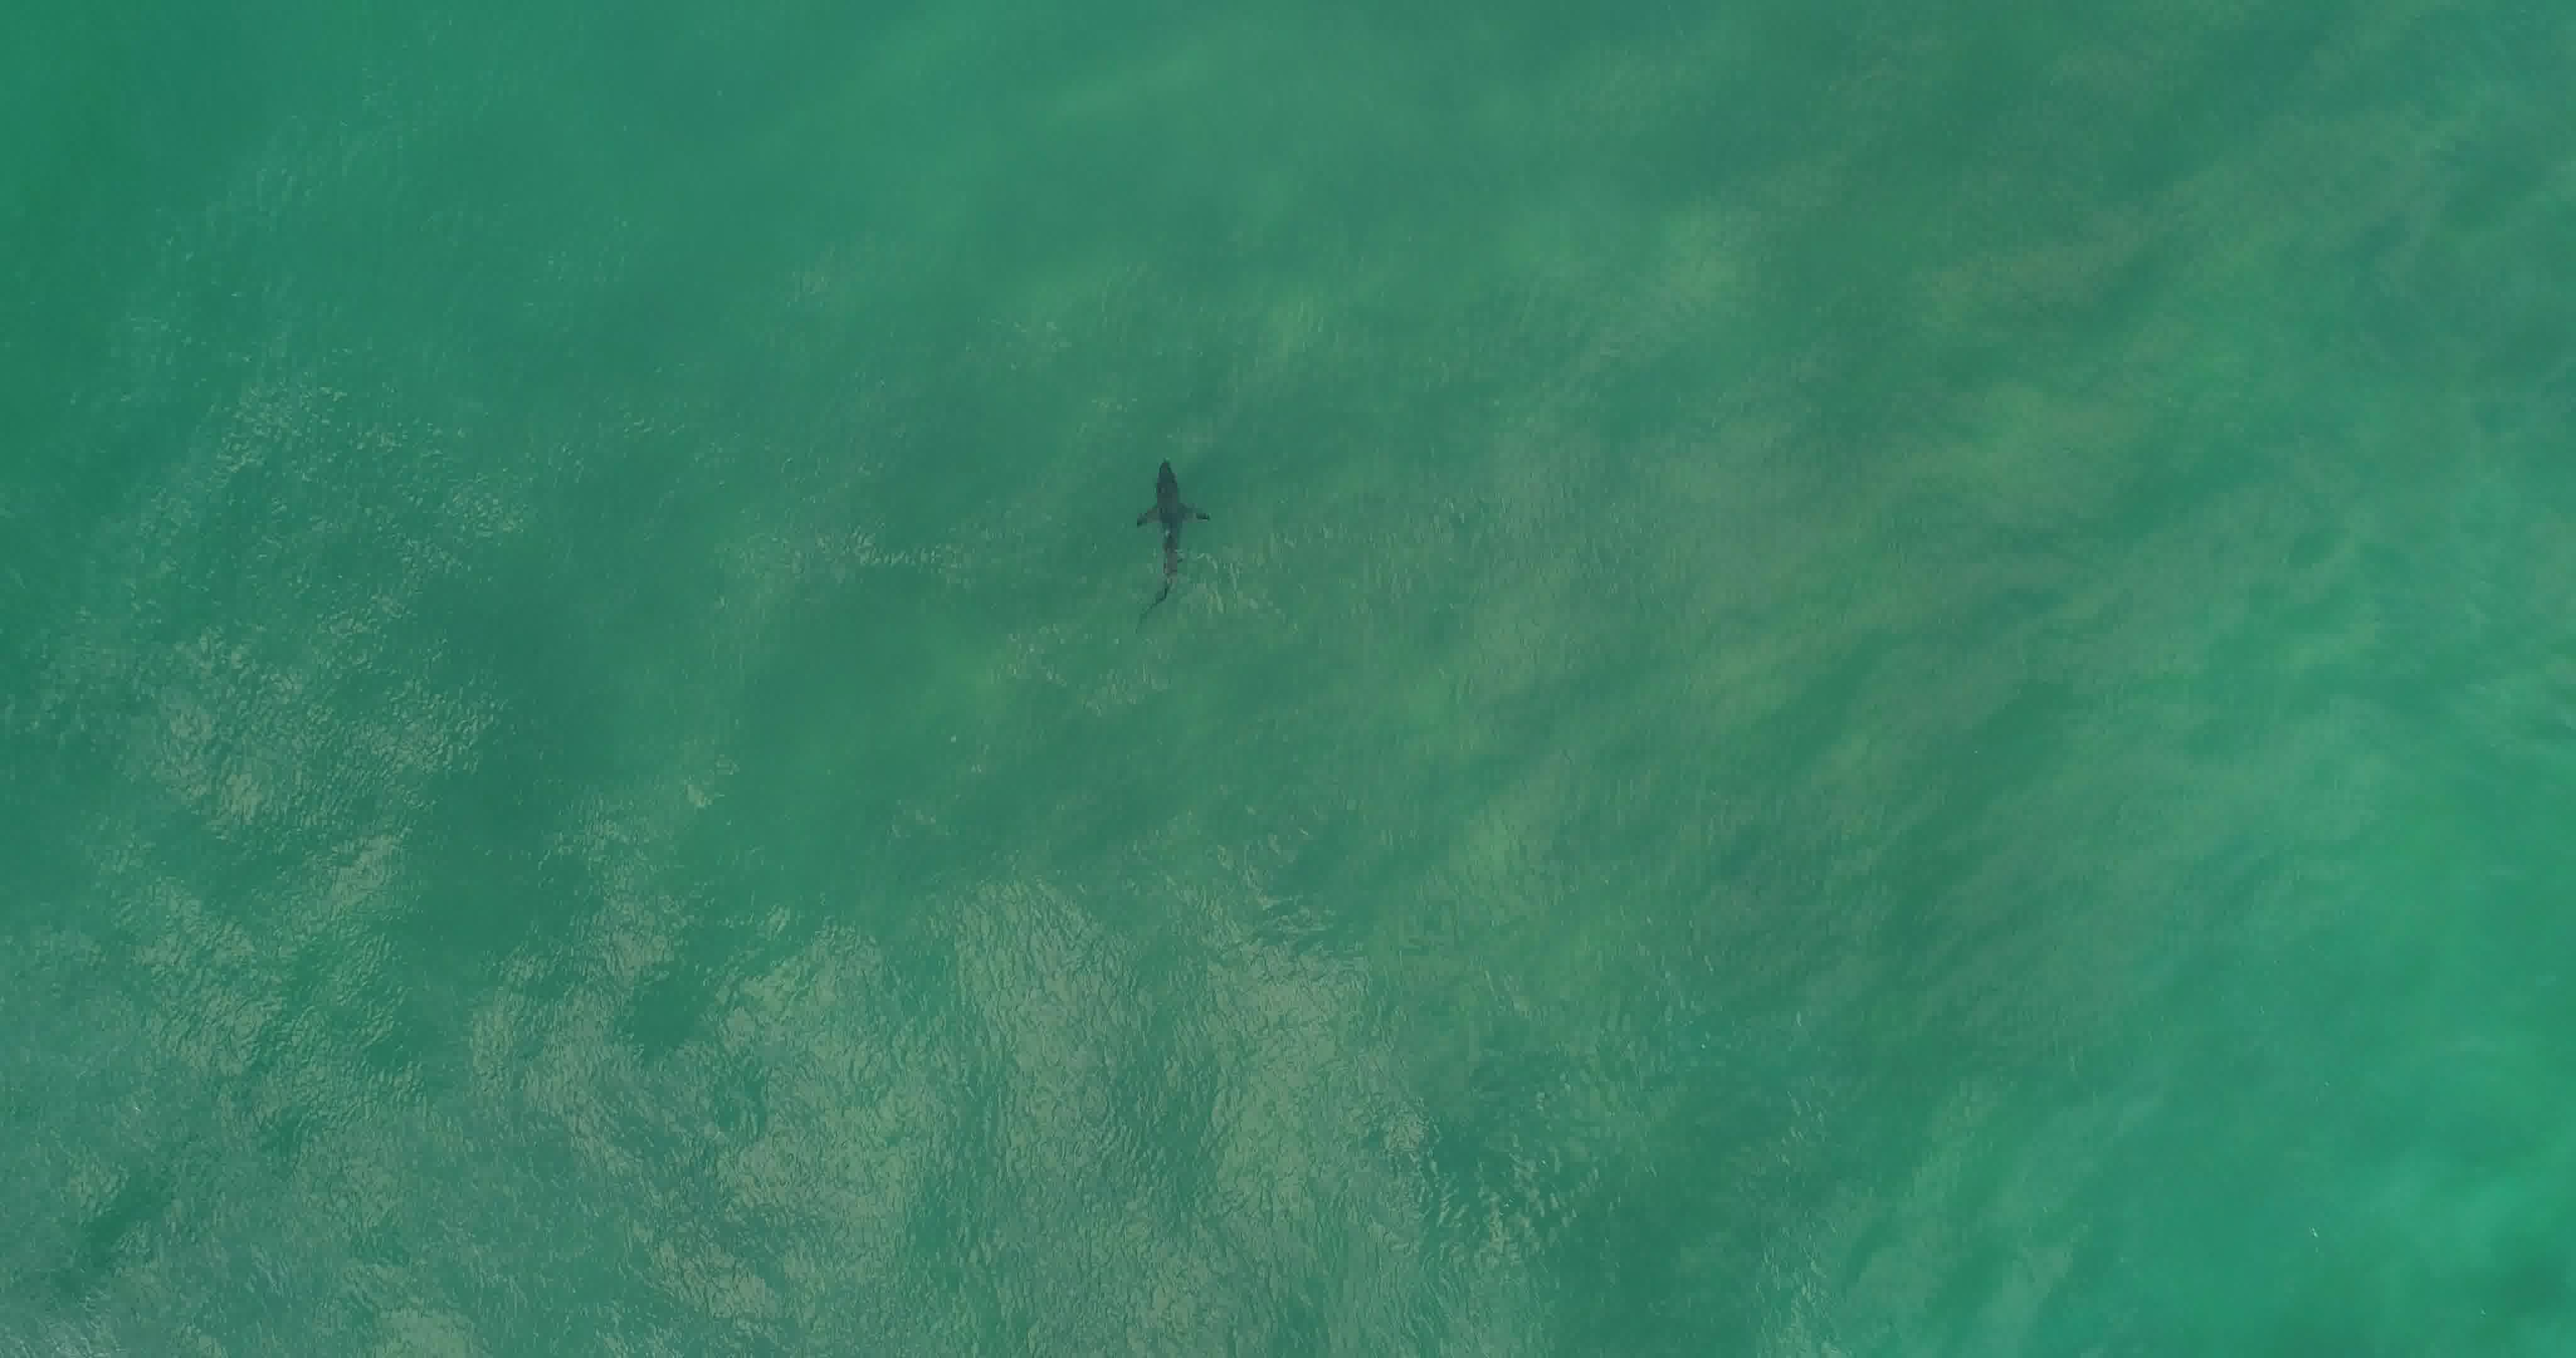shark: (1124, 457, 1216, 641)
